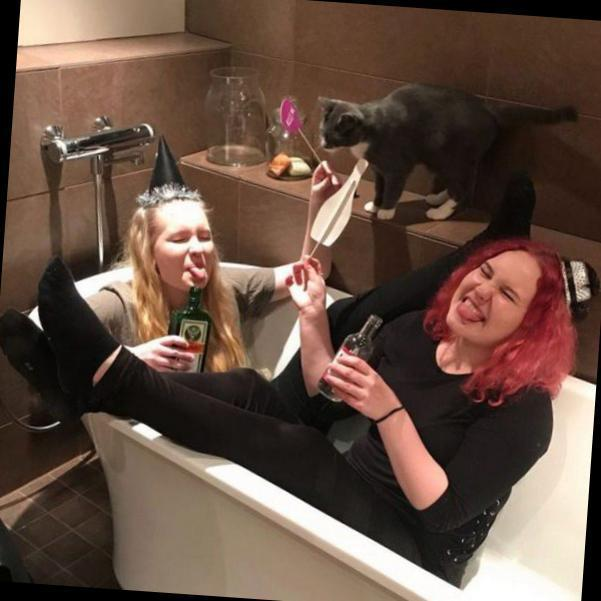Drunk: (445, 251, 533, 343), (155, 205, 218, 289)
